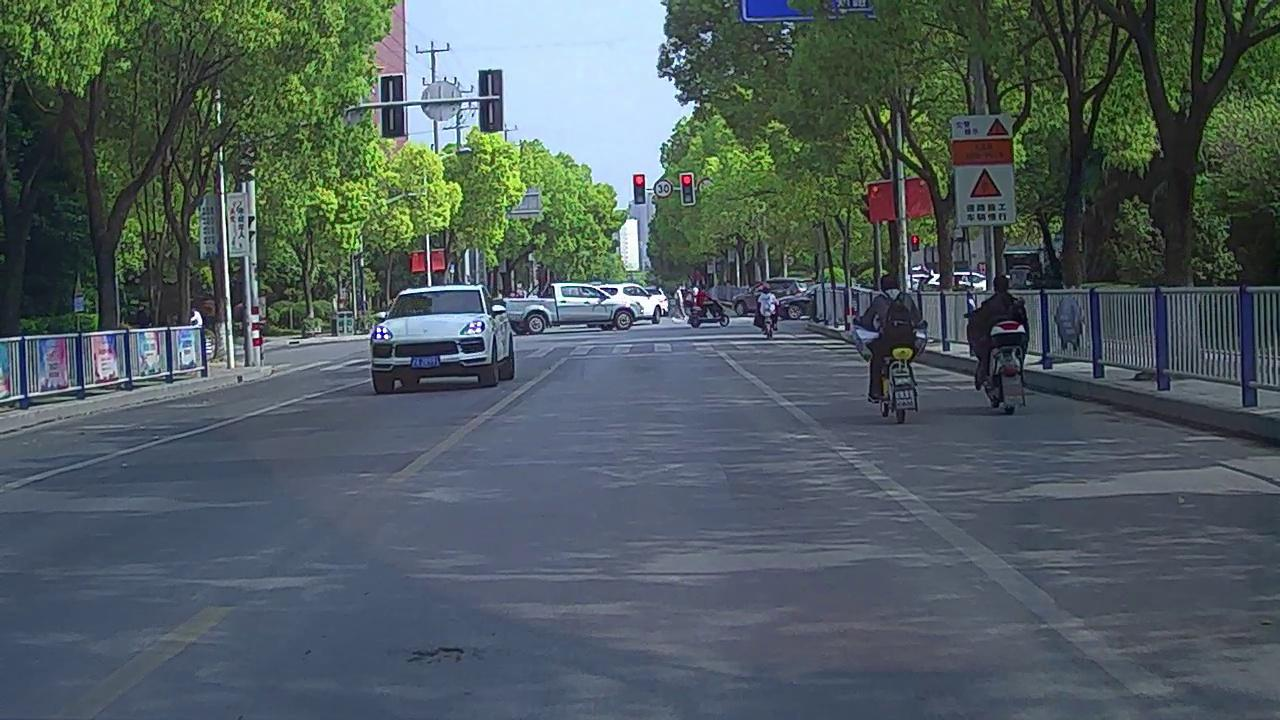traffic_light: (680, 173, 694, 204), (634, 174, 646, 203)
